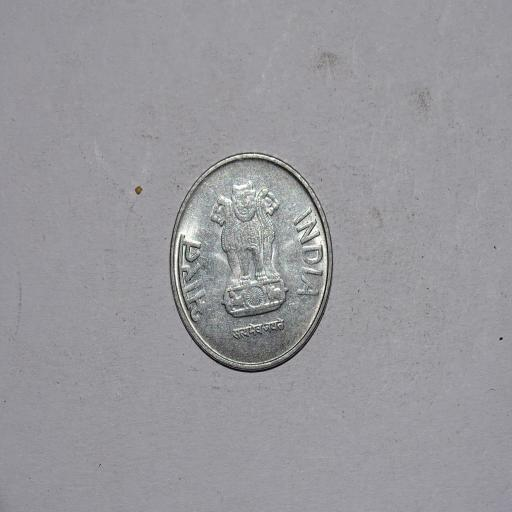rupee2: (162, 156, 332, 381)
